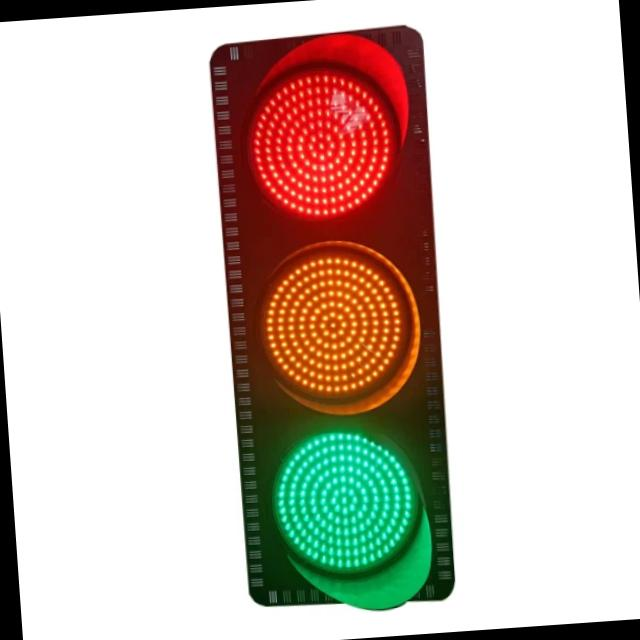green-lights: (268, 427, 421, 578)
red-lights: (244, 65, 401, 224)
yellow-lights: (258, 252, 406, 400)
